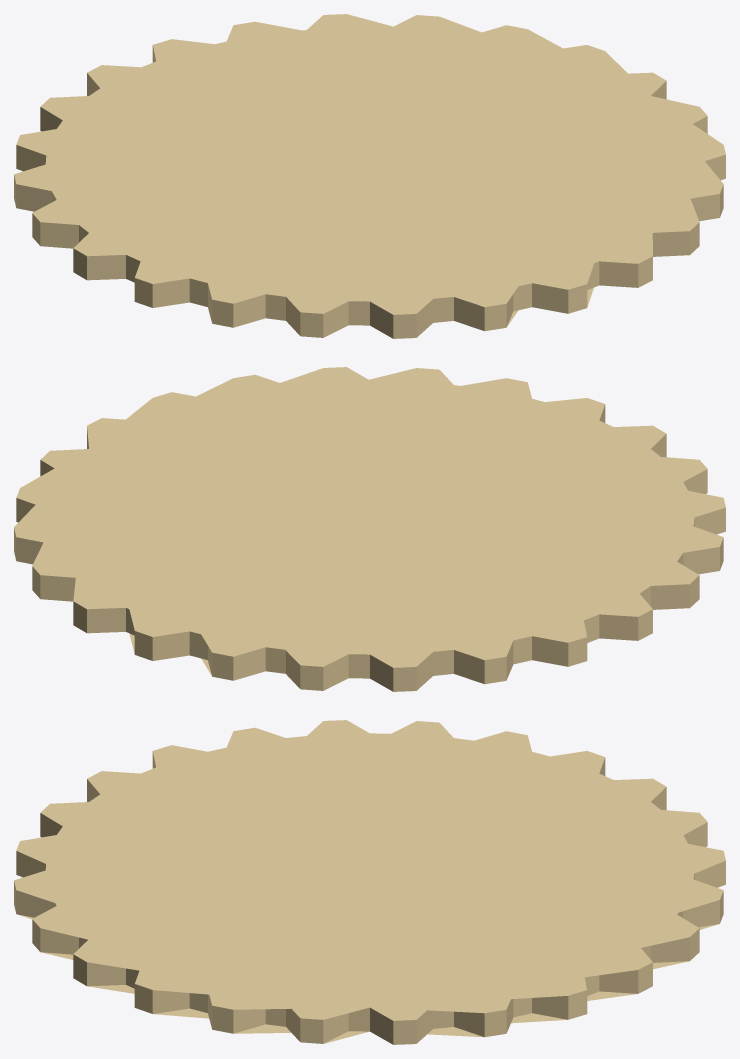
The model's file is Gear.fbx.
3 renders of one model, top to bottom at view 1: azimuth 30°, elevation 25°; view 2: azimuth 150°, elevation 25°; view 3: azimuth 270°, elevation 25°, orthographic.
Parts seen in each view (by area): view 1: Gear; view 2: Gear; view 3: Gear.
Boxes of the visible parts, left/top/right/bottom form: Gear: left=14, top=14, right=725, bottom=338; Gear: left=14, top=367, right=725, bottom=691; Gear: left=14, top=720, right=725, bottom=1044.
Bounding box in the file's own units: 4.83 × 0.18 × 4.83.
